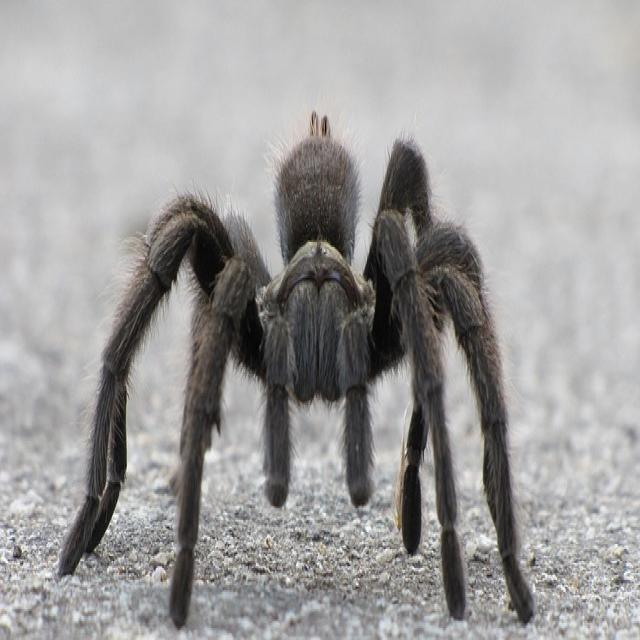spyder: (59, 114, 534, 626)
